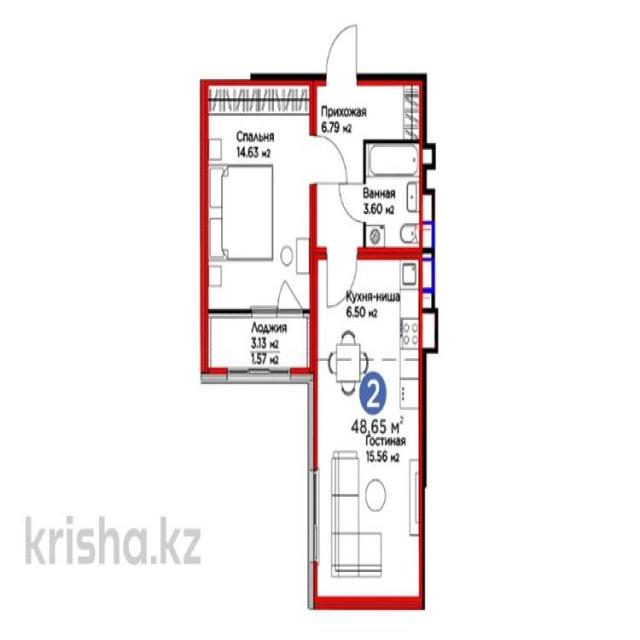balcony: (205, 314, 314, 373)
bathroom: (364, 143, 424, 248)
hallway: (317, 79, 419, 141)
living_room: (208, 87, 312, 311)
studio: (318, 256, 422, 604)
